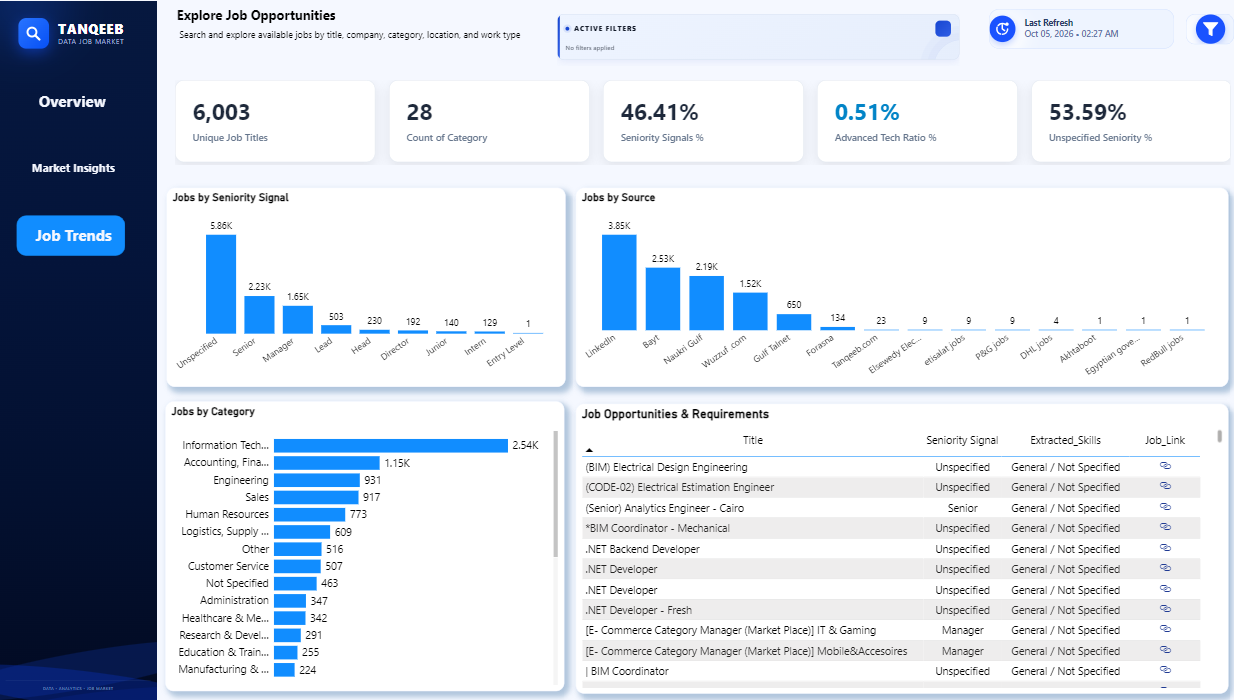

The dashboard page shown, as its layout file describes it:
{"tool":"powerbi","page":{"name":"Job Explorer","canvas":[2200,1250],"ordinal":3},"visuals":[{"type":"actionButton","box":[308,6,500,48],"z":0,"group":"g1"},{"type":"columnChart","fields":{"Category":["Dim_Source.Source"],"Y":["Dax_meausres.Total Jobs"]},"box":[1022.7,335.4,1152,352],"z":0},{"type":"shape","box":[35.8,383,192,72],"z":0,"group":"g2"},{"type":"actionButton","box":[312.8,47,645,33],"z":1000,"group":"g1"},{"type":"htmlContent443BE3AD55E043BF878BED274D3A6855","fields":{"content":["Dax_meausres.KPI_Cards_HTML_Job_explore"]},"box":[311.6,140,1873,160],"z":1000},{"type":"actionButton","box":[47.8,380,168,72],"z":1000,"group":"g2"},{"type":"htmlContent443BE3AD55E043BF878BED274D3A6855","fields":{"content":["Dax_meausres.Last Refresh HTML"]},"box":[1747,14,336,83],"z":2000},{"type":"tableEx","title":"Job Opportunities & Requirements","fields":{"Values":["Fact_Jobs.Title","Fact_Jobs.Seniority Signal","Fact_Jobs.Extracted_Skills","Fact_Jobs.Job_Link"]},"box":[1022.7,715.2,1152,512],"z":3000},{"type":"htmlContent443BE3AD55E043BF878BED274D3A6855","fields":{"content":["Dax_meausres.Filter_Header_HTML"]},"box":[2094,24,96,72],"z":5000},{"type":"shape","box":[2104,13,81,82],"z":5500},{"type":"htmlContent443BE3AD55E043BF878BED274D3A6865","fields":{"content":["Dax_meausres.Sidebar_HTML"]},"box":[0,0,288,1248],"z":6000},{"type":"actionButton","box":[47.8,262,168,72],"z":7000},{"type":"group","id":"g1","title":"Group 2","box":[308,6,649.8,74],"z":8000},{"type":"actionButton","box":[47.5,144,168,72],"z":10000},{"type":"columnChart","fields":{"Category":["Fact_Jobs.Seniority Signal"],"Y":["Dax_meausres.Total Jobs"]},"box":[301.2,335.4,704,352],"z":11000},{"type":"barChart","fields":{"Category":["Dim_Category.Category"],"Y":["Dax_meausres.Total Jobs"]},"box":[298.3,712.1,704,512],"z":12000},{"type":"group","id":"g2","title":"Group 1","box":[35.8,380,192,75],"z":13000},{"type":"htmlContent443BE3AD55E043BF878BED274D3A6855","fields":{"content":["Dax_meausres.Active_Filters_HTML"]},"box":[984,24,720,101],"z":14000}]}

Visuals, with their boxes in screenshot pixels (x1, y1, x2, y2), scaled from the page's 2200x1250 canvas onto the 1234x700 screenshot:
actionButton: Rect(173, 3, 453, 30)
columnChart - Dim_Source.Source x Dax_meausres.Total Jobs: Rect(574, 188, 1220, 385)
shape: Rect(20, 214, 128, 255)
actionButton: Rect(175, 26, 537, 45)
htmlContent443BE3AD55E043BF878BED274D3A6855 - Dax_meausres.KPI_Cards_HTML_Job_explore: Rect(175, 78, 1225, 168)
actionButton: Rect(27, 213, 121, 253)
htmlContent443BE3AD55E043BF878BED274D3A6855 - Dax_meausres.Last Refresh HTML: Rect(980, 8, 1168, 54)
"Job Opportunities & Requirements" tableEx: Rect(574, 401, 1220, 687)
htmlContent443BE3AD55E043BF878BED274D3A6855 - Dax_meausres.Filter_Header_HTML: Rect(1175, 13, 1228, 54)
shape: Rect(1180, 7, 1226, 53)
htmlContent443BE3AD55E043BF878BED274D3A6865 - Dax_meausres.Sidebar_HTML: Rect(0, 0, 162, 699)
actionButton: Rect(27, 147, 121, 187)
"Group 2" group: Rect(173, 3, 537, 45)
actionButton: Rect(27, 81, 121, 121)
columnChart - Fact_Jobs.Seniority Signal x Dax_meausres.Total Jobs: Rect(169, 188, 564, 385)
barChart - Dim_Category.Category x Dax_meausres.Total Jobs: Rect(167, 399, 562, 685)
"Group 1" group: Rect(20, 213, 128, 255)
htmlContent443BE3AD55E043BF878BED274D3A6855 - Dax_meausres.Active_Filters_HTML: Rect(552, 13, 956, 70)
